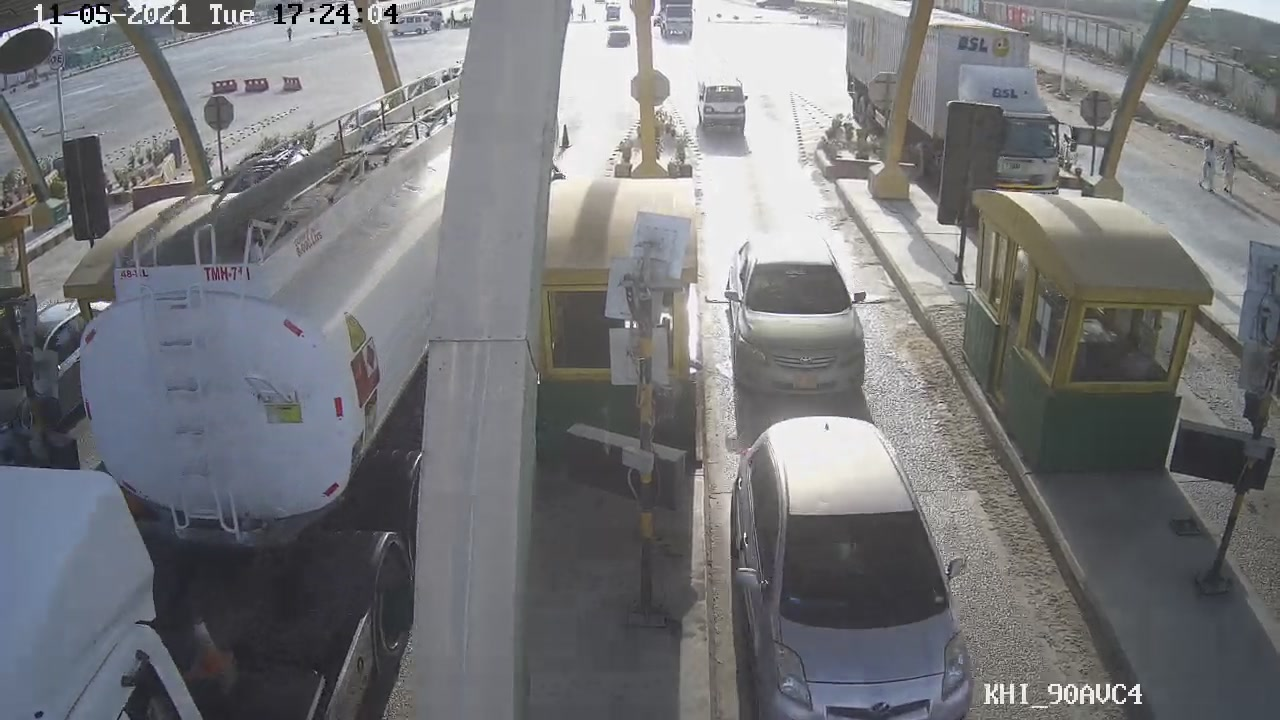F1: (711, 229, 871, 409)
